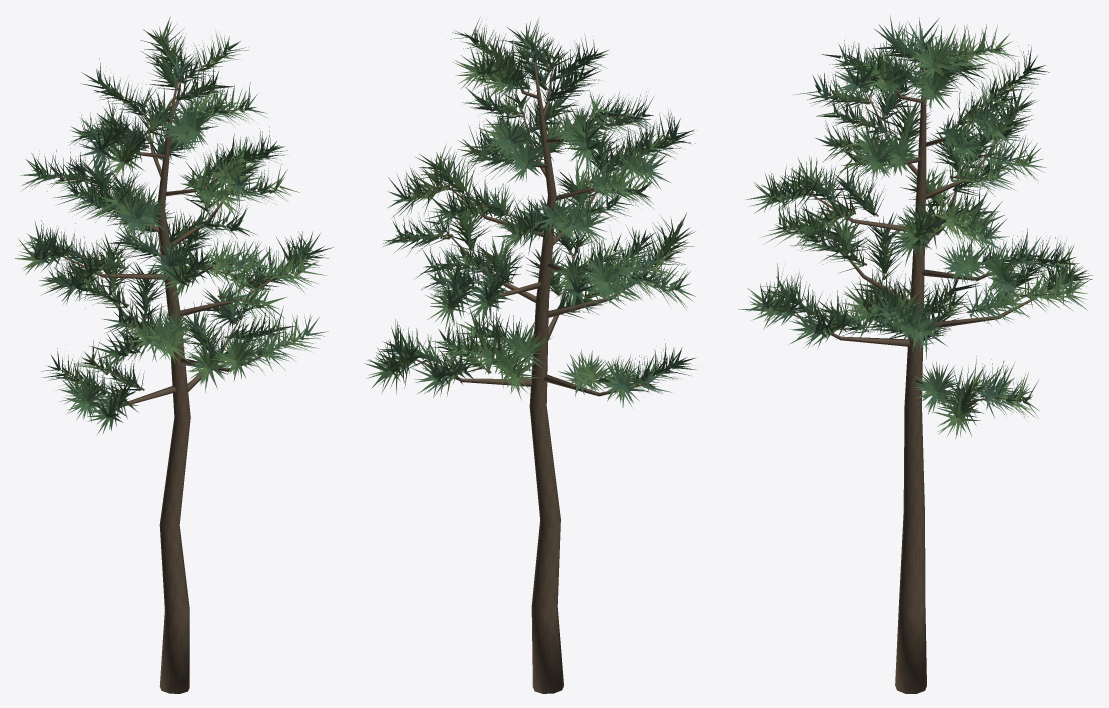
Rendered from pine-street.glb.
The picture shows the model from 3 angles, left to right: view 1: azimuth 30°, elevation 25°; view 2: azimuth 150°, elevation 25°; view 3: azimuth 270°, elevation 25°; orthographic projection. The views are drawn at different scales.
Parts seen in each view (by area): view 1: PineStreet; view 2: PineStreet; view 3: PineStreet.
Boxes of the visible parts, x1,y1,x2,y2 form: PineStreet: (15,16,333,693); PineStreet: (365,18,696,693); PineStreet: (738,15,1093,693).
Bounding box in the file's own units: 3.16 × 6.5 × 3.09.
Materials: 2 (1 with a texture image).
